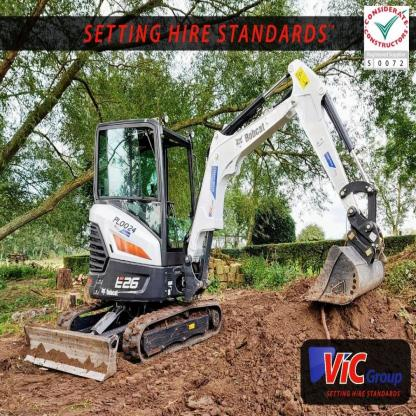excavator: (37, 67, 381, 355)
